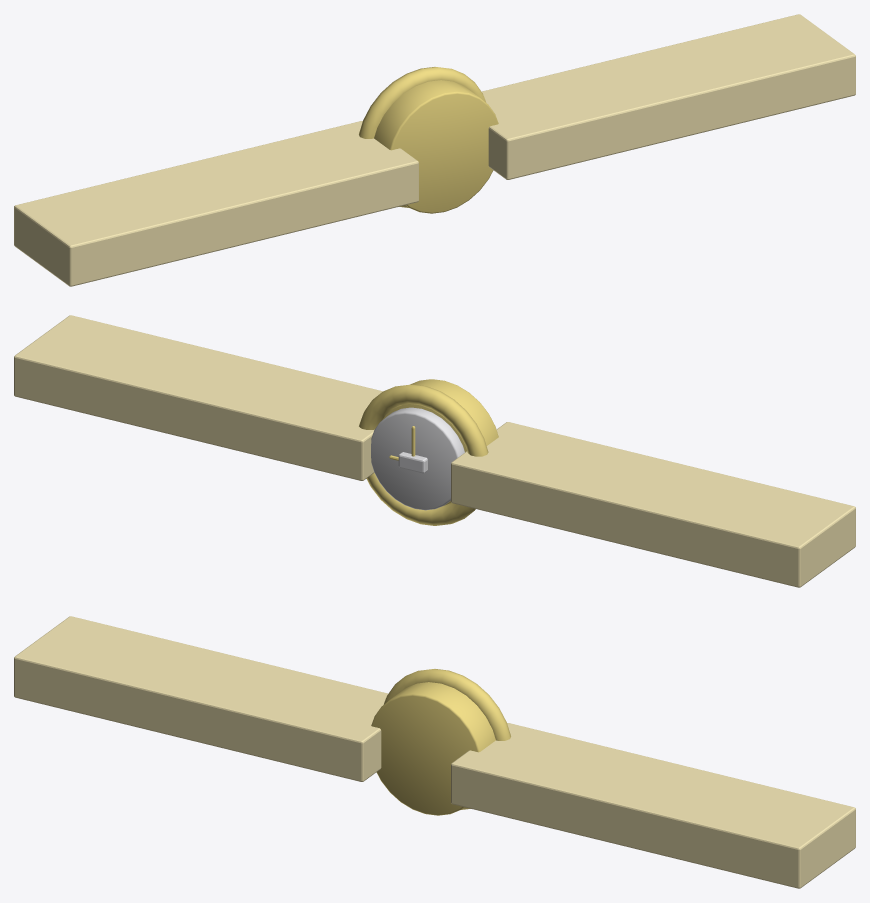
File: VM-ACC-EXT190.glb
3 views of the same model, one above another, from view 1: azimuth 30°, elevation 25°; view 2: azimuth 150°, elevation 25°; view 3: azimuth 330°, elevation 25° (orthographic).
Visible parts, largest first — view 1: Prenda Iwc Ingenieur Automatic; view 2: Prenda Iwc Ingenieur Automatic; view 3: Prenda Iwc Ingenieur Automatic.
Boxes of the visible parts, x1,y1,x2,y2 form: Prenda Iwc Ingenieur Automatic: [14, 14, 855, 286]; Prenda Iwc Ingenieur Automatic: [14, 315, 855, 587]; Prenda Iwc Ingenieur Automatic: [14, 616, 855, 888].
Bounding box in the file's own units: 0.3456 × 0.0576 × 0.0432.
